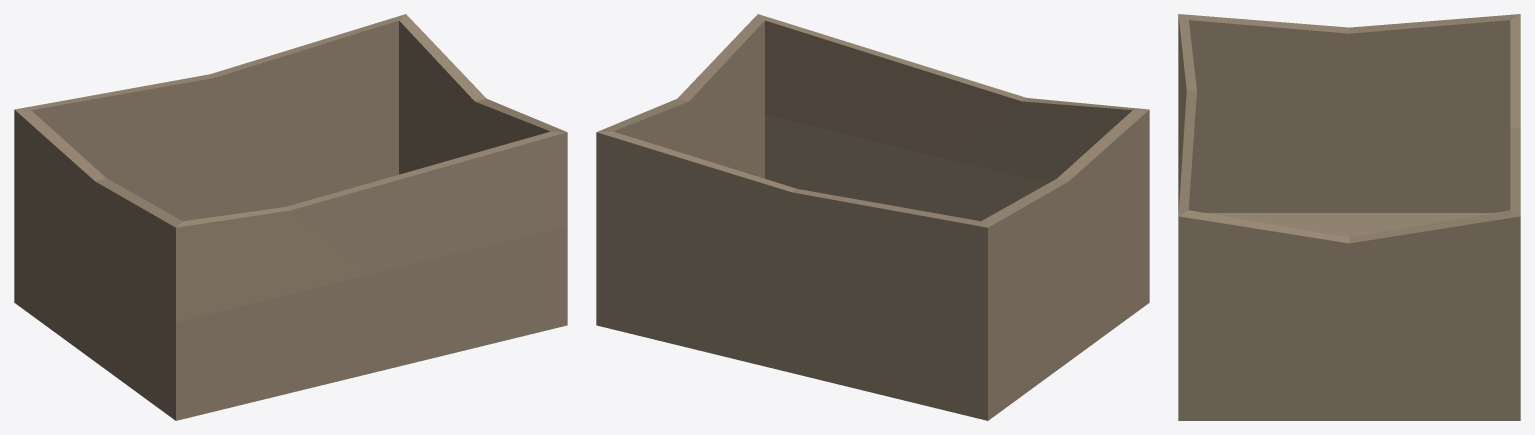
3 renders of one model, left to right at view 1: azimuth 30°, elevation 25°; view 2: azimuth 150°, elevation 25°; view 3: azimuth 270°, elevation 25°, orthographic. The views are drawn at different scales.
Visible parts, largest first — view 1: Box; view 2: Box; view 3: Box.
Boxes of the visible parts, x1,y1,x2,y2 form: Box: (14,14,567,420); Box: (596,14,1149,420); Box: (1178,14,1520,420).
Bounding box in the file's own units: 61.2 × 28.86 × 43.71.
